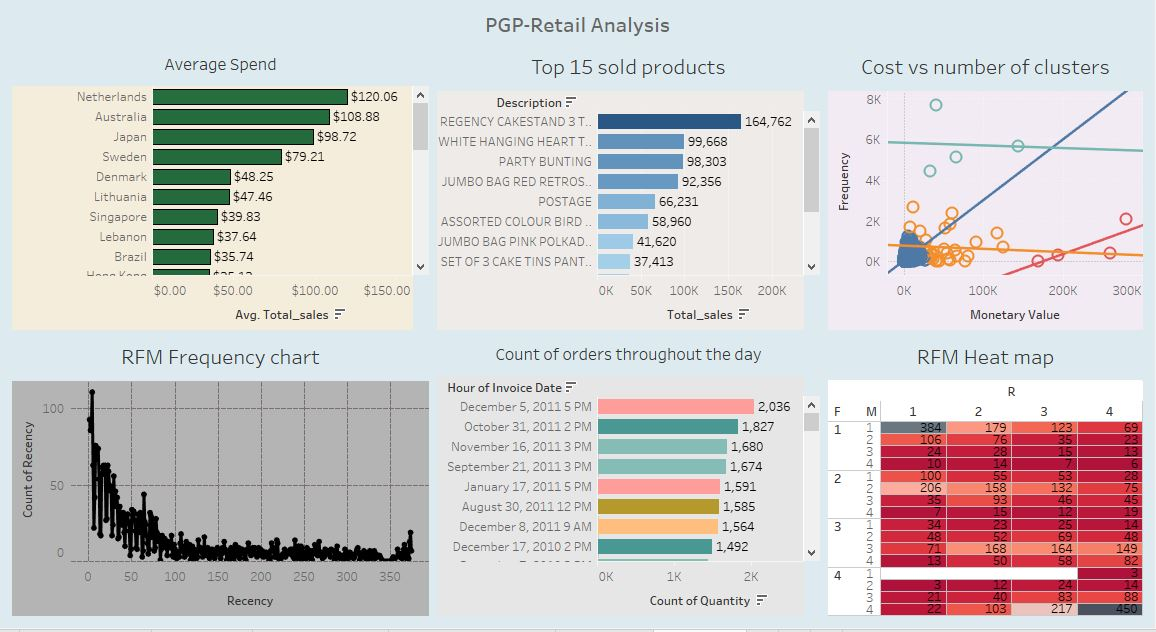

Layout of this report page (visuals, bound fields, positions):
{"tool":"tableau","page":{"name":"PGP-Retail","canvas":[1000,1000],"units":"permille","ordinal":0},"visuals":[{"type":"worksheet","box":[0,0,1000,1000]},{"type":"worksheet","box":[6.9,12.7,986.1,63.3]},{"type":"worksheet","title":"Average spend","mark":"Bar","rows":["Country"],"cols":["Calculation_616430218557210624"],"box":[6.9,75.9,368,458.9]},{"type":"worksheet","title":"Top 15 sold products","mark":"Automatic","rows":["Description"],"cols":["Calculation_616430218557210624"],"box":[374.9,75.9,338.5,458.9]},{"type":"worksheet","title":"Cost vs number of clusters","mark":"Automatic","rows":["Frequency"],"cols":["MonetaryValue"],"box":[713.4,75.9,279.7,458.9]},{"type":"worksheet","title":"RFM Frequency chart","mark":"Line","rows":["Recency"],"cols":["Recency"],"box":[6.9,534.8,367.9,452.6]},{"type":"worksheet","title":"count of orders","mark":"Bar","rows":["InvoiceDate"],"cols":["Quantity"],"box":[374.9,534.8,338.5,452.6]},{"type":"worksheet","title":"RFM Heat map","mark":"Square","rows":["F","M"],"cols":["R"],"box":[713.4,534.8,279.7,452.6]}]}

Visuals, with their boxes on the dashboard's canvas, which has no fixed pixel size, in thousandths of its width and height (x1, y1, x2, y2). These are canvas units, not pixel positions in the 1156x632 screenshot, which may show the page scaled, cropped or inside an application window:
worksheet: 0,0,1000,1000
worksheet: 7,13,993,76
"Average spend" worksheet (Bar marks): 7,76,375,535
"Top 15 sold products" worksheet: 375,76,713,535
"Cost vs number of clusters" worksheet: 713,76,993,535
"RFM Frequency chart" worksheet (Line marks): 7,535,375,987
"count of orders" worksheet (Bar marks): 375,535,713,987
"RFM Heat map" worksheet (Square marks): 713,535,993,987
